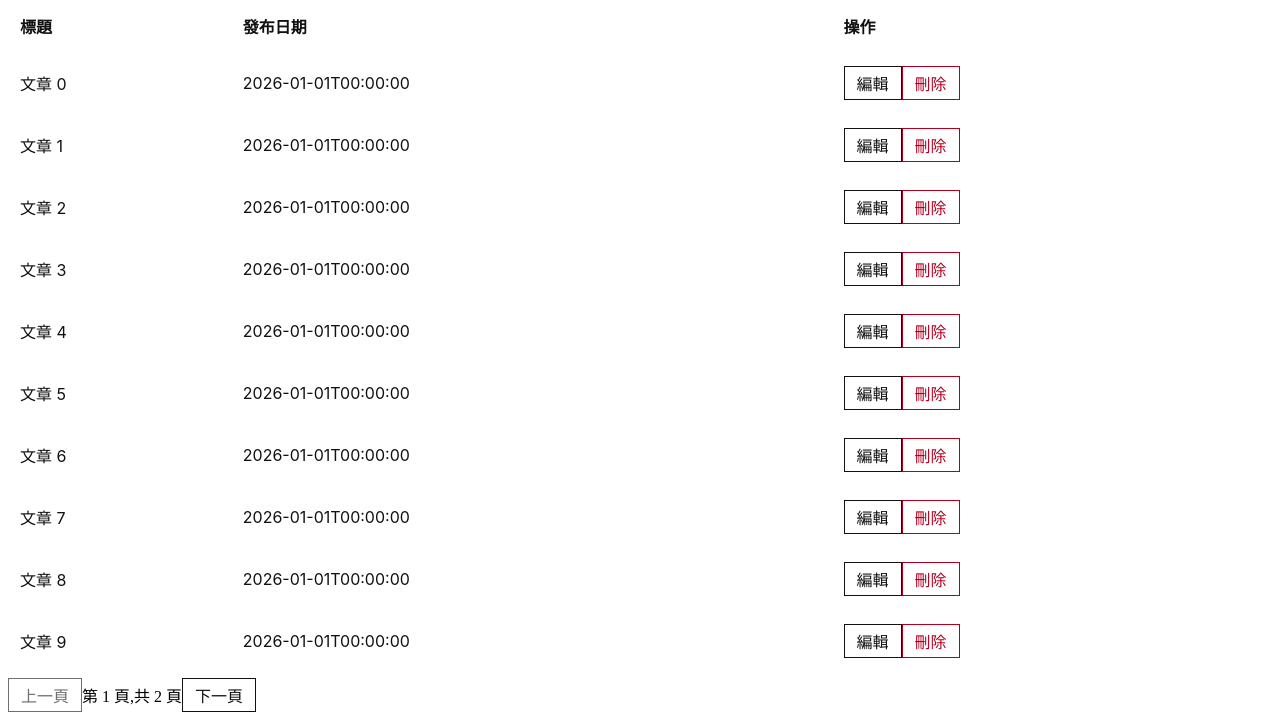
Test: ArticlesList › AC4: 分頁行為與 API 回傳一致,點擊下一頁以 page=2 重新呼叫 API 並更新畫面
The image size is (1280, 720).
(page scrolled)
Click the button "下一頁": (219, 695) x1=182 y1=678 x2=256 y2=712
(page scrolled)
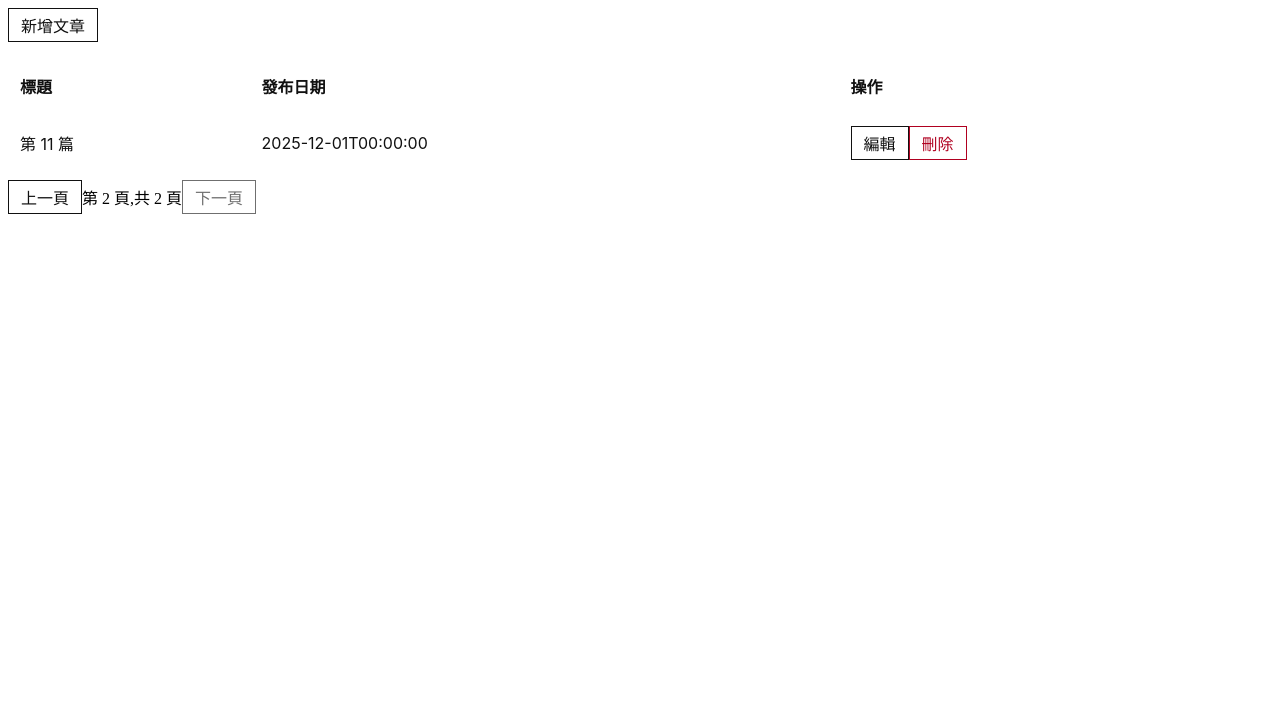
Expected: the text "第 11 篇" is shown, x1=8 y1=118 x2=250 y2=168
Expected: the number of rows is 2, x1=8 y1=66 x2=1272 y2=106; x1=8 y1=118 x2=1272 y2=168
